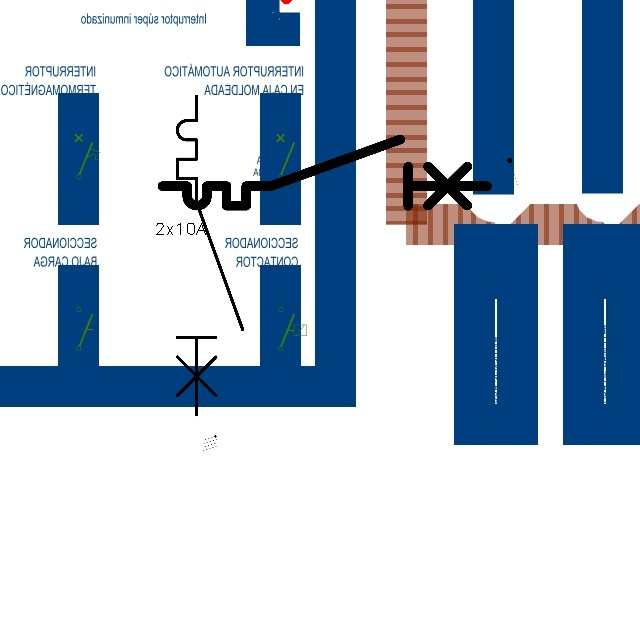interruptor_termomagnetico: (154, 131, 495, 214), (169, 88, 251, 423)
